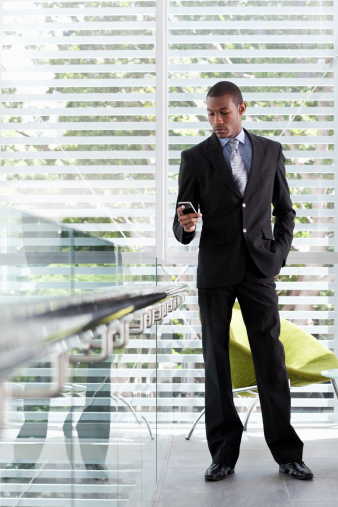em pe: (161, 85, 310, 499)
